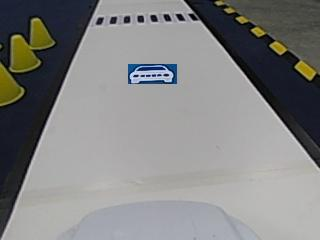crosswalk: (95, 13, 197, 25)
